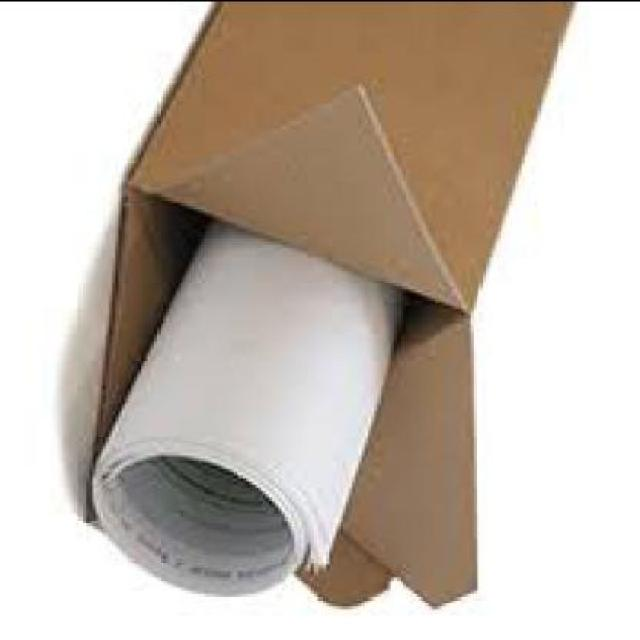CARDBOARD: (89, 1, 577, 602)
PAPER: (96, 214, 413, 592)
